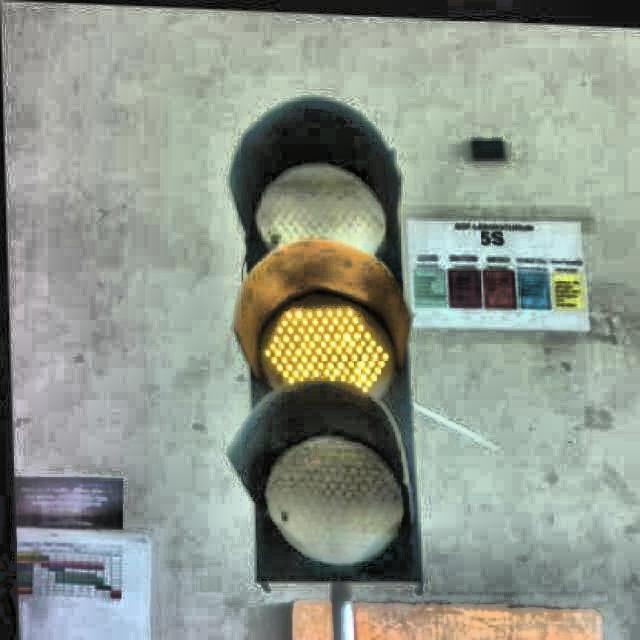yellow: (239, 115, 423, 584)
